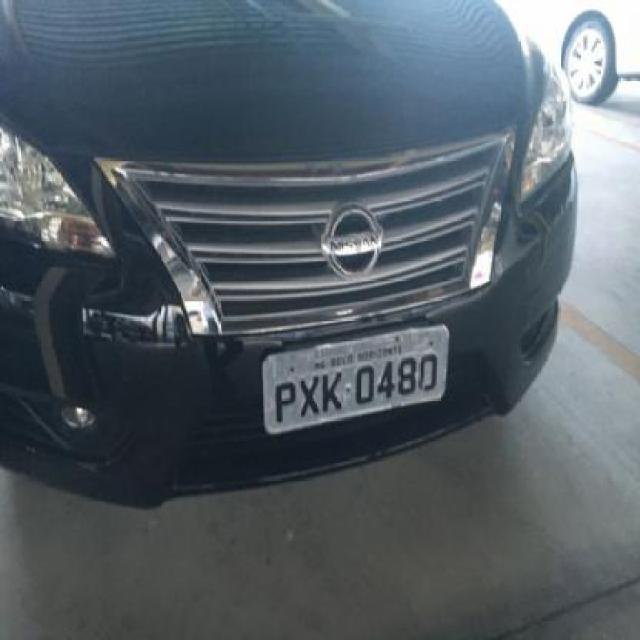old_plate: (257, 318, 458, 441)
